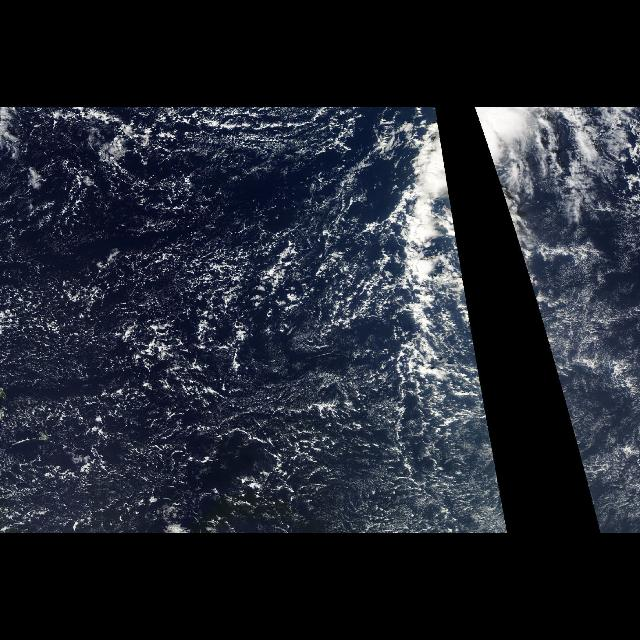Gravel: (2, 110, 402, 532)
Sugar: (544, 328, 636, 532), (458, 328, 509, 532)
